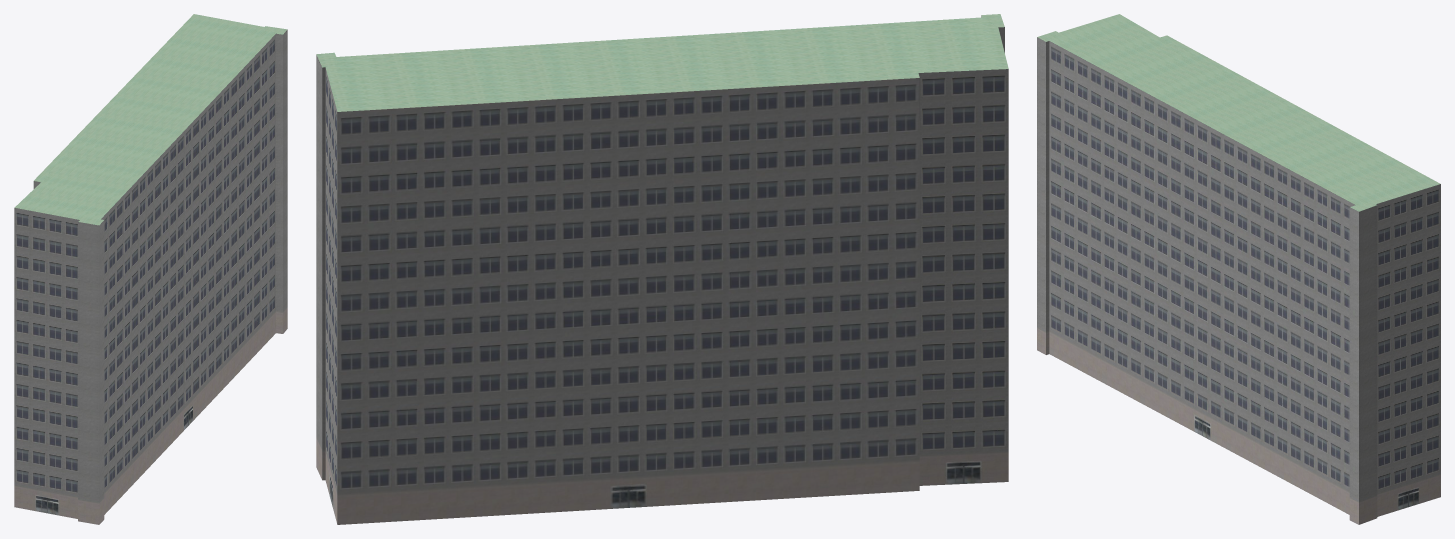
The picture shows the model from 3 angles, left to right: view 1: azimuth 30°, elevation 25°; view 2: azimuth 150°, elevation 25°; view 3: azimuth 270°, elevation 25°; orthographic projection. The views are drawn at different scales.
Visible parts, largest first — view 1: BuildingMaster_1978193076204464424600000000_0, BuildingMaster_1978193076204464424600000000_1; view 2: BuildingMaster_1978193076204464424600000000_0, BuildingMaster_1978193076204464424600000000_1; view 3: BuildingMaster_1978193076204464424600000000_0, BuildingMaster_1978193076204464424600000000_1.
Boxes of the visible parts, x1,y1,x2,y2 form: BuildingMaster_1978193076204464424600000000_0: (14,29,287,524); BuildingMaster_1978193076204464424600000000_1: (14,14,287,225); BuildingMaster_1978193076204464424600000000_0: (316,15,1008,524); BuildingMaster_1978193076204464424600000000_1: (316,14,1008,111); BuildingMaster_1978193076204464424600000000_0: (1037,37,1440,524); BuildingMaster_1978193076204464424600000000_1: (1037,14,1440,211).
Bounding box in the file's own units: 66.39 × 49 × 57.27.
2 materials, 2 textured.
